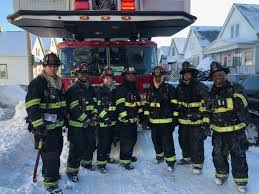emergent: (208, 63, 249, 189), (31, 55, 68, 188), (178, 62, 210, 169), (67, 62, 97, 175), (146, 65, 177, 166), (119, 66, 143, 171), (95, 65, 117, 172)
